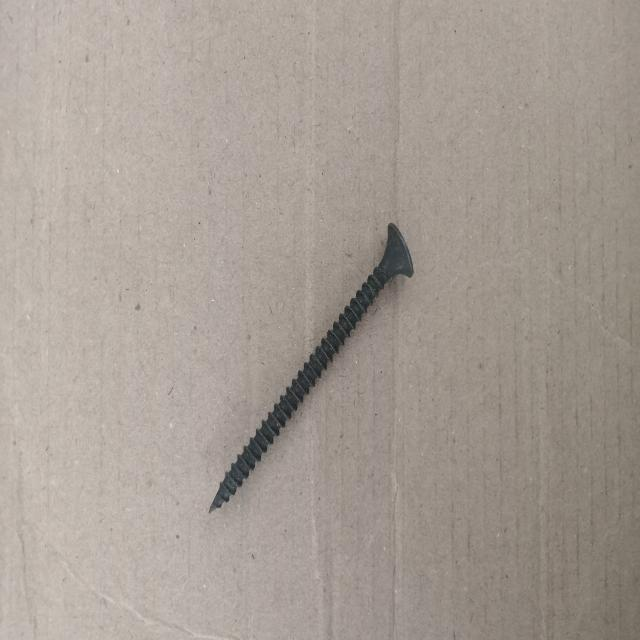screw: (209, 222, 412, 517)
